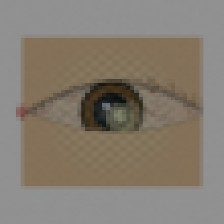corneal_ulcer: (97, 100, 144, 138)
